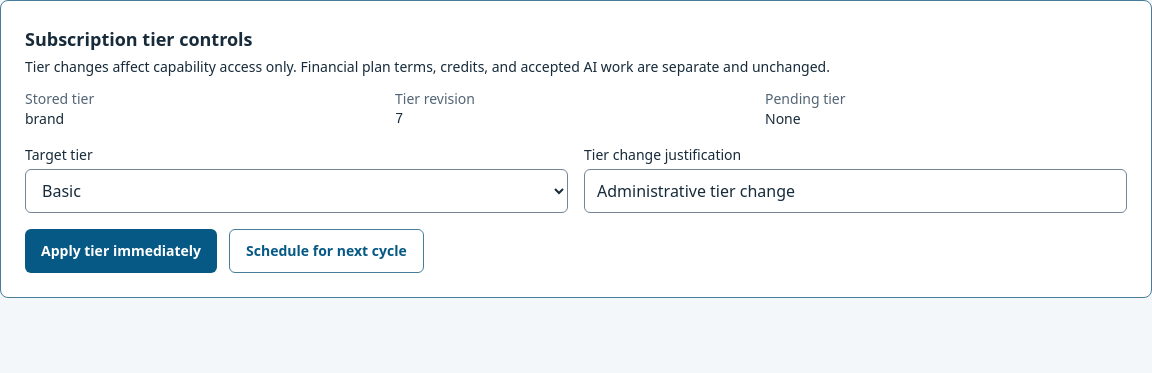
Test: SubscriptionTierControls › does not request a preview when the fresh subscription read is unavailable
The width and height of the screenshot is (1152, 373).
Click the button "Schedule for next cycle" at (326, 251), box [229, 229, 424, 273]
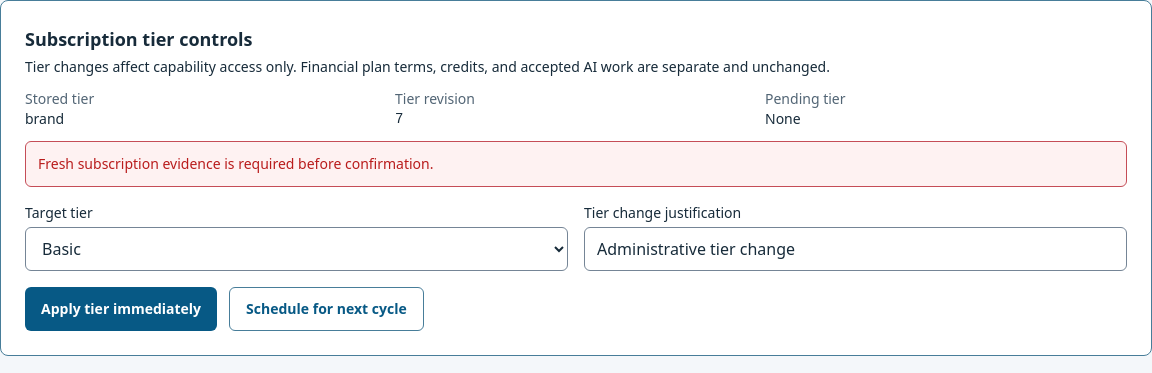
Now the message reads "Fresh subscription evidence is required before confirmation.", box [38, 154, 434, 173]
